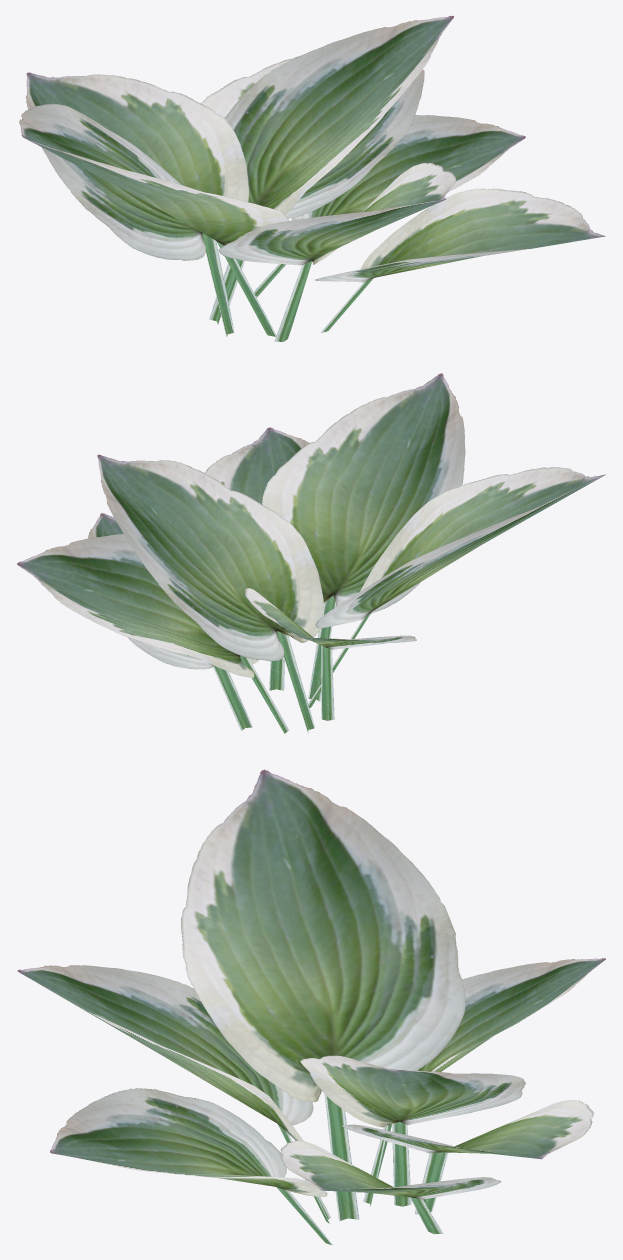
File: plant_small_wg_04O.fbx
3 views of the same model, one above another, from view 1: azimuth 30°, elevation 25°; view 2: azimuth 150°, elevation 25°; view 3: azimuth 270°, elevation 25° (orthographic). The views are drawn at different scales.
Parts seen in each view (by area): view 1: plant_small_wg_04O; view 2: plant_small_wg_04O; view 3: plant_small_wg_04O.
Boxes of the visible parts, left/top/right/bottom form: plant_small_wg_04O: left=19, top=16, right=605, bottom=341; plant_small_wg_04O: left=17, top=373, right=605, bottom=733; plant_small_wg_04O: left=17, top=769, right=605, bottom=1245.
Size of the model in its own units: 104 by 55.74 by 97.7.
